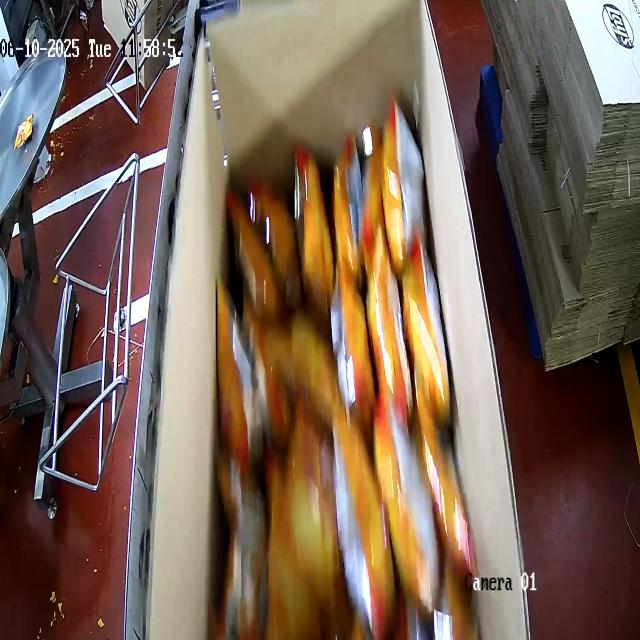FRENCH_CHEESE: (221, 127, 450, 640)
